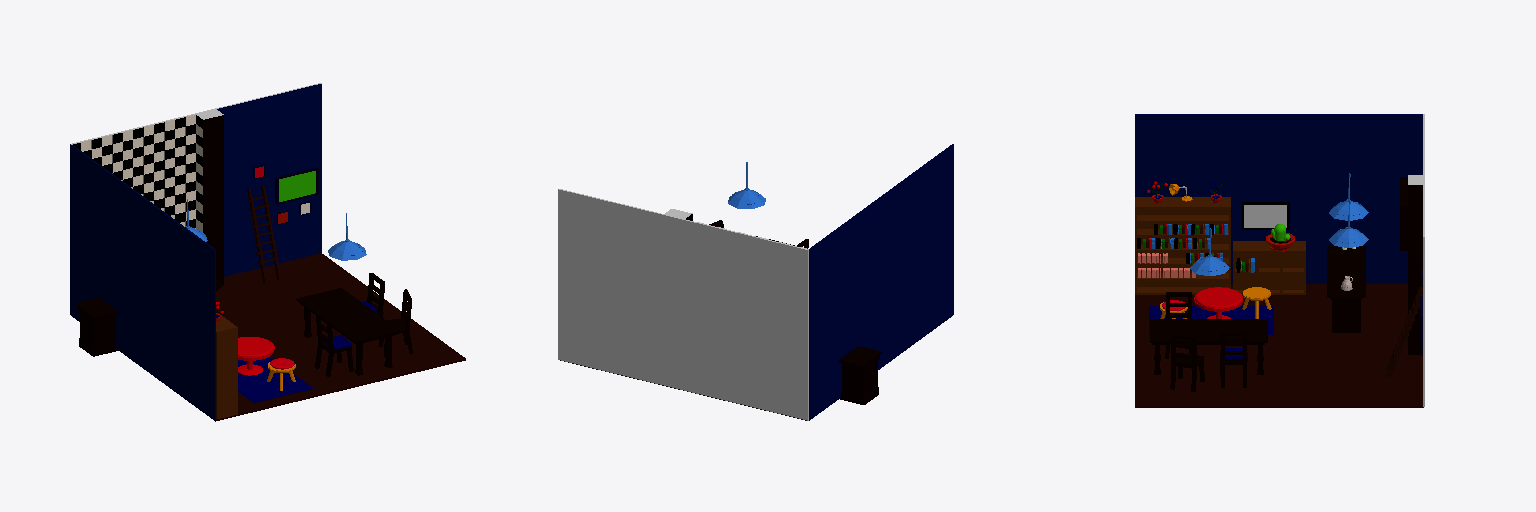
Rendered from szene.obj.
3 views of the same model, side by side, from view 1: azimuth 30°, elevation 25°; view 2: azimuth 150°, elevation 25°; view 3: azimuth 270°, elevation 25° (orthographic).
Parts seen in each view (by area): view 1: Cube.002, Cube.001, Cube, Langtisch, Regal, Cube.003, Filmposter, GrosserRahmen, Leiter, Rundtisch, Stuhl.002, Stuhl.001 (+1 smaller); view 2: Cube.002, Cube.001, Cube.003, Deckenlicht.002; view 3: Cube.001, Cube, Regal, KleinesRegal, Langtisch, Cube.003, Cube.002, GrosserRahmen.001, Stuhl.001, Rundtisch, Filmposter, Stuhl (+7 smaller).
Part boxes in pixels (left/top/right/bottom): Cube.002: left=71, top=83, right=321, bottom=284; Cube.001: left=70, top=144, right=215, bottom=420; Cube: left=77, top=253, right=465, bottom=421; Langtisch: left=296, top=288, right=399, bottom=375; Regal: left=216, top=313, right=237, bottom=418; Cube.003: left=76, top=279, right=222, bottom=356; Filmposter: left=238, top=357, right=312, bottom=402; GrosserRahmen: left=275, top=167, right=318, bottom=204; Leiter: left=247, top=185, right=281, bottom=283; Rundtisch: left=238, top=337, right=274, bottom=375; Stuhl.002: left=315, top=312, right=353, bottom=376; Stuhl.001: left=379, top=289, right=412, bottom=356; Cube.002: left=558, top=189, right=808, bottom=420; Cube.001: left=809, top=144, right=953, bottom=420; Cube.003: left=839, top=346, right=881, bottom=404; Deckenlicht.002: left=728, top=162, right=765, bottom=208; Cube.001: left=1135, top=114, right=1422, bottom=283; Cube: left=1135, top=284, right=1423, bottom=407; Regal: left=1135, top=197, right=1230, bottom=294; KleinesRegal: left=1233, top=241, right=1305, bottom=294; Langtisch: left=1150, top=319, right=1267, bottom=374; Cube.003: left=1327, top=246, right=1365, bottom=332; Cube.002: left=1408, top=114, right=1424, bottom=406; GrosserRahmen.001: left=1242, top=202, right=1289, bottom=229; Stuhl.001: left=1170, top=333, right=1204, bottom=392; Rundtisch: left=1194, top=287, right=1242, bottom=318; Filmposter: left=1149, top=306, right=1273, bottom=334; Stuhl: left=1220, top=332, right=1247, bottom=387.
Size of the model in its own units: 6.59 by 3.96 by 6.03.